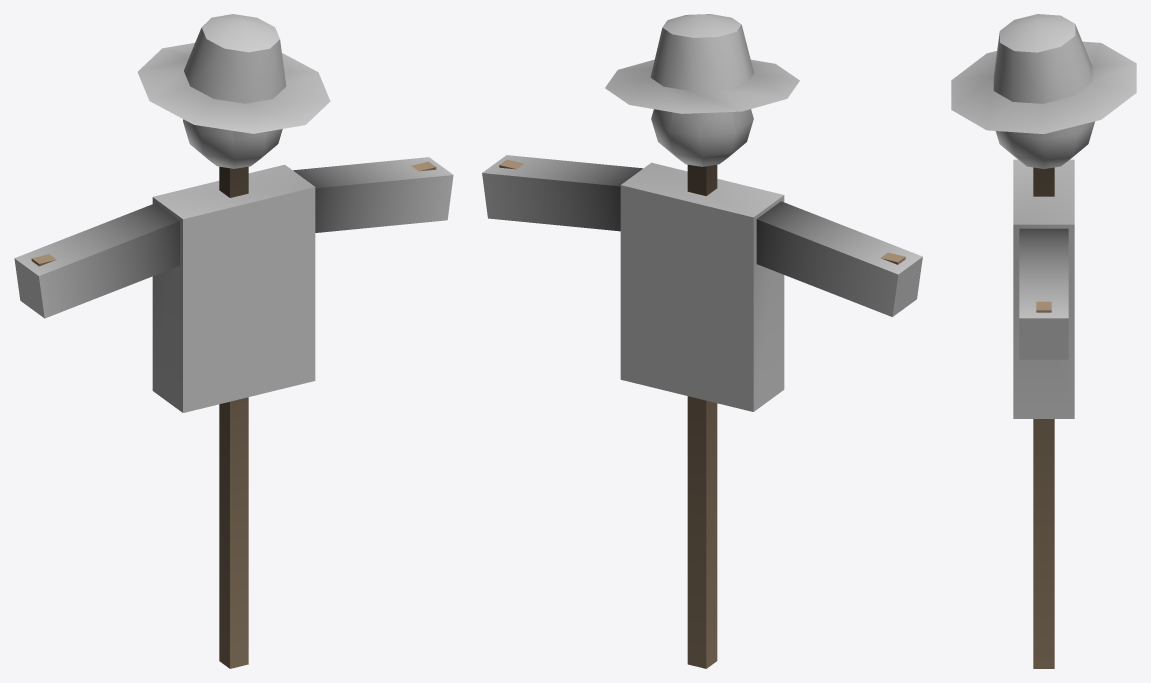
File: scarecrow.glb
3 views of the same model, side by side, from view 1: azimuth 30°, elevation 25°; view 2: azimuth 150°, elevation 25°; view 3: azimuth 270°, elevation 25° (orthographic).
Parts seen in each view (by area): view 1: scarecrow; view 2: scarecrow; view 3: scarecrow.
Boxes of the visible parts, x1,y1,x2,y2 form: scarecrow: [14, 14, 453, 668]; scarecrow: [482, 14, 922, 668]; scarecrow: [951, 14, 1136, 668].
Bounding box in the file's own units: 1.57 × 2.32 × 0.6053.
